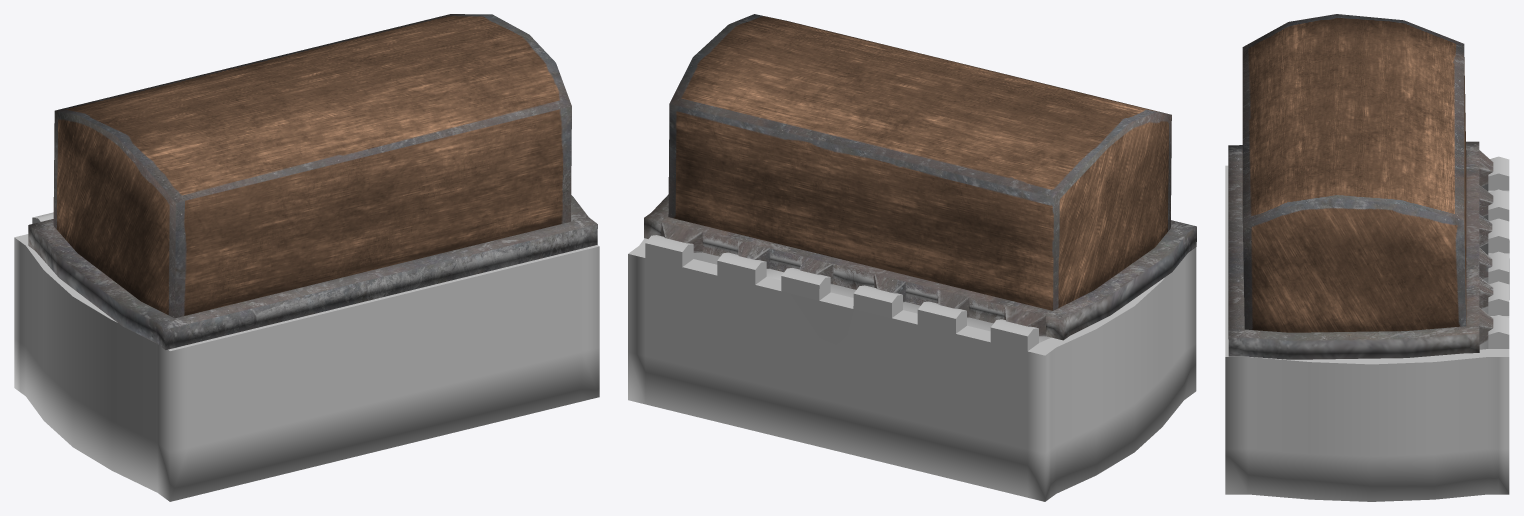
Rendered from Chest.fbx.
3 renders of one model, left to right at view 1: azimuth 30°, elevation 25°; view 2: azimuth 150°, elevation 25°; view 3: azimuth 270°, elevation 25°, orthographic. The views are drawn at different scales.
Parts seen in each view (by area): view 1: Tapa, Cos; view 2: Tapa, Cos; view 3: Tapa, Cos.
Boxes of the visible parts, x1,y1,x2,y2 form: Tapa: [28, 14, 597, 349]; Cos: [14, 212, 599, 501]; Tapa: [644, 14, 1196, 340]; Cos: [628, 235, 1196, 501]; Tapa: [1228, 14, 1493, 359]; Cos: [1225, 156, 1509, 501].
Size of the model in its own units: 161 by 106 by 93.73.
